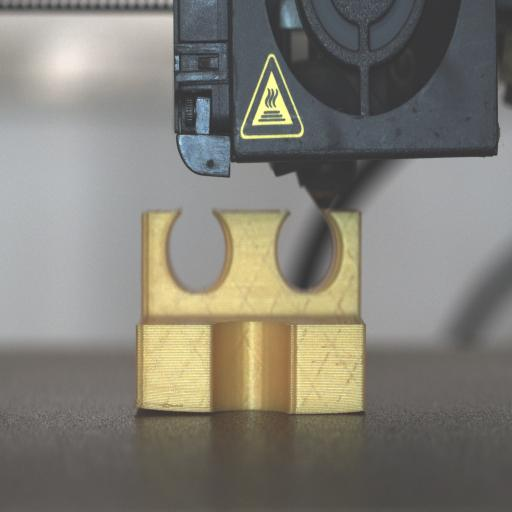warp: (127, 393, 171, 419)
